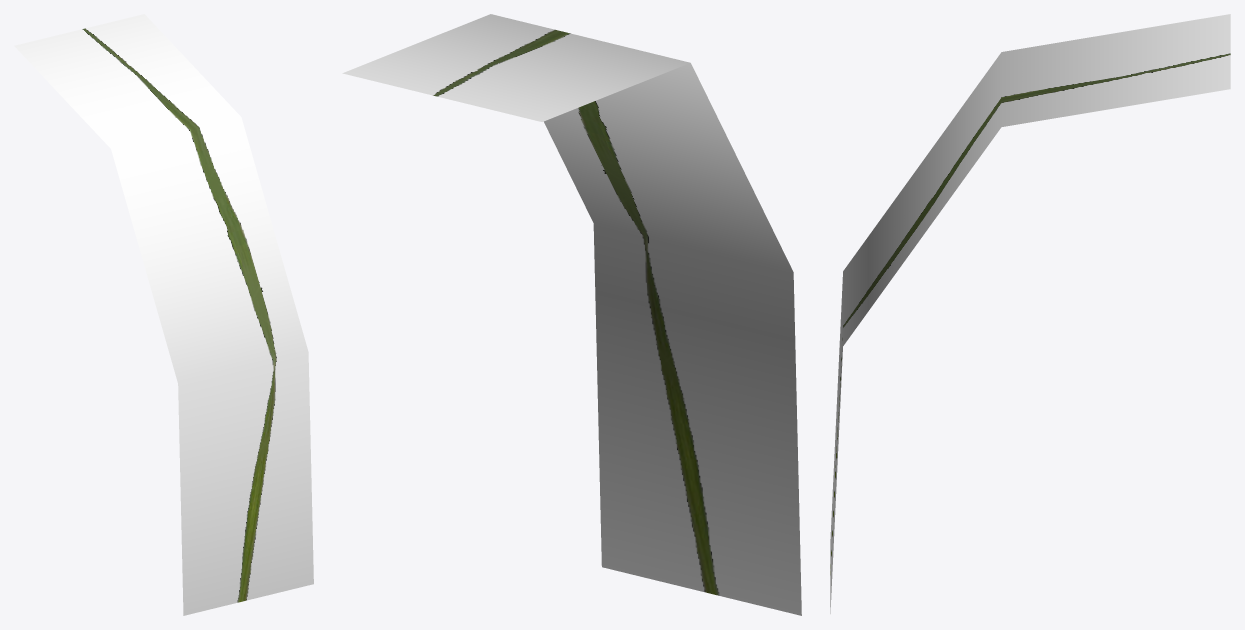
File: brin_herbe01.fbx
The picture shows the model from 3 angles, left to right: view 1: azimuth 30°, elevation 25°; view 2: azimuth 150°, elevation 25°; view 3: azimuth 270°, elevation 25°; orthographic projection. The views are drawn at different scales.
Parts seen in each view (by area): view 1: pPlane33; view 2: pPlane33; view 3: pPlane33.
Boxes of the visible parts, bbox=[...] form: pPlane33: bbox=[14, 14, 313, 615]; pPlane33: bbox=[342, 14, 801, 615]; pPlane33: bbox=[830, 14, 1230, 613].
Size of the model in its own units: 0.0285 by 0.0932 by 0.0641.
1 material, 1 textured.
